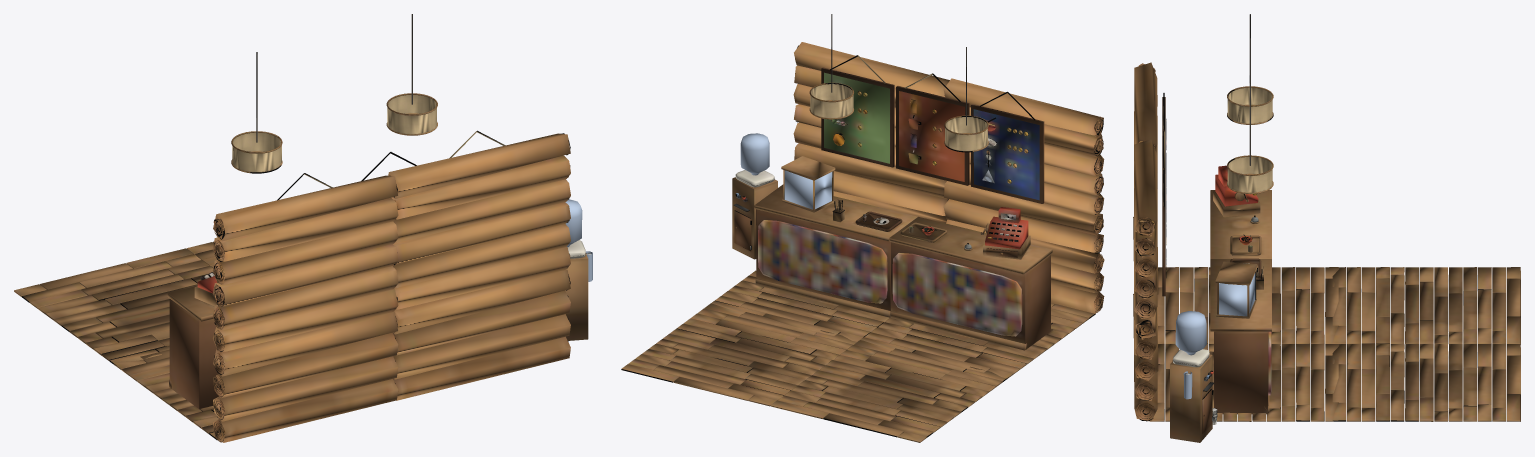
Rendered from dining.glb.
3 views of the same model, side by side, from view 1: azimuth 30°, elevation 25°; view 2: azimuth 150°, elevation 25°; view 3: azimuth 270°, elevation 25° (orthographic). The views are drawn at different scales.
Parts seen in each view (by area): view 1: prop_dining_felt, prop_dining_wood, prop_dining_paper, prop_dining_glass; view 2: prop_dining_wood, prop_dining_felt, prop_dining_paper, prop_dining_glass; view 3: prop_dining_wood, prop_dining_felt, prop_dining_paper, prop_dining_glass.
Boxes of the visible parts, box(x1,y1,x2,y2) form: prop_dining_felt: box(197, 52, 591, 442); prop_dining_wood: box(14, 93, 588, 439); prop_dining_paper: box(232, 95, 436, 171); prop_dining_glass: box(565, 199, 592, 281); prop_dining_wood: box(621, 67, 1095, 442); prop_dining_felt: box(733, 42, 1104, 336); prop_dining_paper: box(810, 83, 987, 150); prop_dining_glass: box(740, 133, 832, 209); prop_dining_wood: box(1151, 86, 1520, 442); prop_dining_felt: box(1133, 14, 1271, 424); prop_dining_paper: box(1227, 87, 1272, 192); prop_dining_glass: box(1175, 273, 1255, 399).
Size of the model in its own units: 9.19 by 7.2 by 8.53.
Materials: 5 (4 with a texture image).
